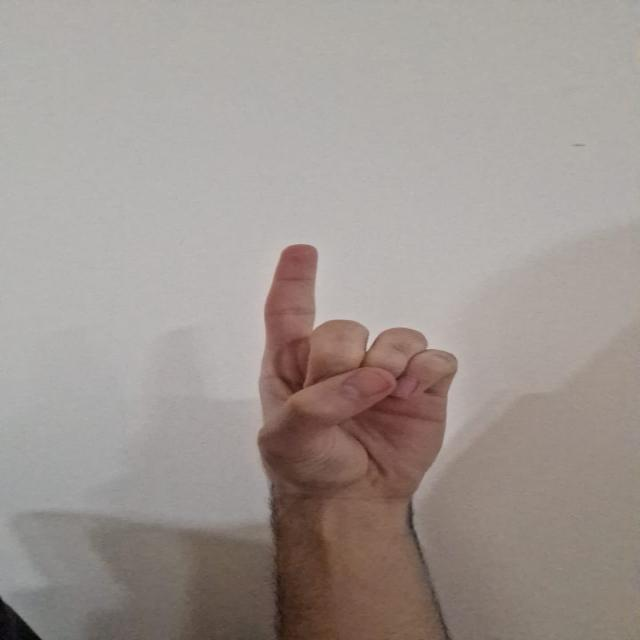D2: (243, 240, 468, 505)
